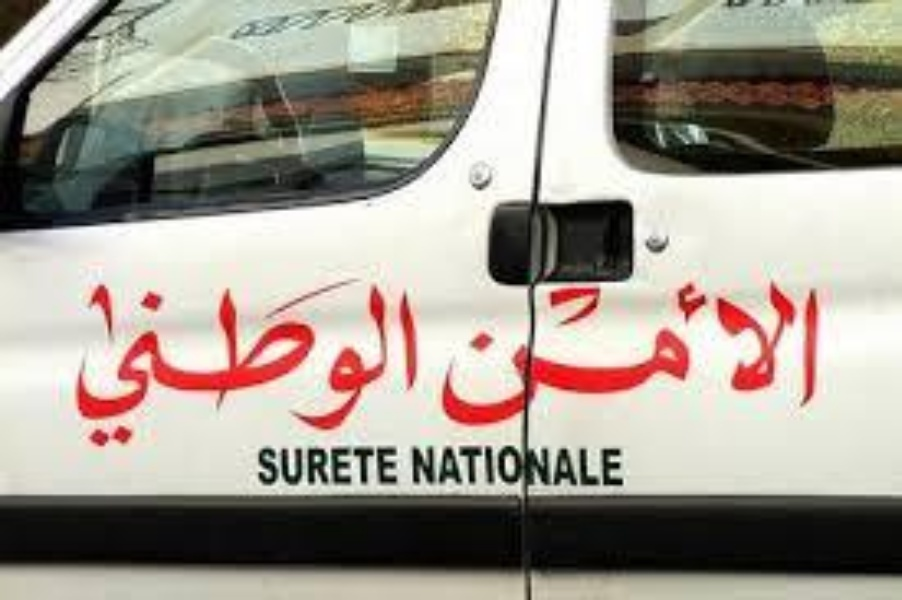text: (81, 279, 96, 450), (97, 279, 112, 450), (113, 279, 128, 450), (129, 279, 144, 450), (145, 279, 160, 450), (161, 279, 176, 450), (177, 279, 192, 450), (193, 279, 208, 450), (209, 279, 224, 450), (225, 279, 240, 450), (241, 279, 256, 450), (257, 279, 272, 450), (273, 279, 288, 450), (289, 279, 304, 450), (305, 279, 320, 450), (321, 279, 336, 450), (337, 279, 352, 450), (353, 279, 368, 450), (369, 279, 384, 450), (385, 279, 400, 450), (401, 279, 416, 450), (449, 282, 464, 430), (465, 282, 480, 430), (481, 282, 496, 430), (497, 282, 512, 430), (513, 282, 528, 430), (529, 282, 544, 430), (545, 282, 560, 430), (561, 282, 576, 430), (577, 282, 592, 430), (593, 282, 608, 430), (609, 282, 624, 430), (625, 282, 640, 430), (641, 282, 656, 430), (657, 282, 672, 430), (673, 282, 688, 430), (689, 282, 704, 430), (705, 282, 720, 430), (721, 282, 736, 430), (737, 282, 752, 430), (753, 282, 768, 430), (769, 282, 784, 430), (785, 282, 800, 430), (801, 282, 816, 430), (69, 279, 80, 450), (440, 282, 448, 430), (417, 443, 432, 489), (433, 443, 448, 489), (449, 443, 464, 489), (465, 443, 480, 489), (481, 443, 496, 489), (497, 443, 512, 489), (513, 443, 528, 489), (529, 443, 544, 489), (545, 443, 560, 489), (561, 443, 576, 489), (577, 443, 592, 489), (593, 443, 608, 489), (609, 443, 624, 489), (385, 446, 401, 486), (257, 446, 272, 486), (273, 446, 288, 486), (289, 446, 304, 486), (305, 446, 320, 486), (321, 446, 336, 486), (337, 446, 352, 486), (353, 446, 368, 486), (369, 446, 384, 486), (817, 282, 821, 430), (417, 279, 420, 450), (411, 443, 416, 489)
